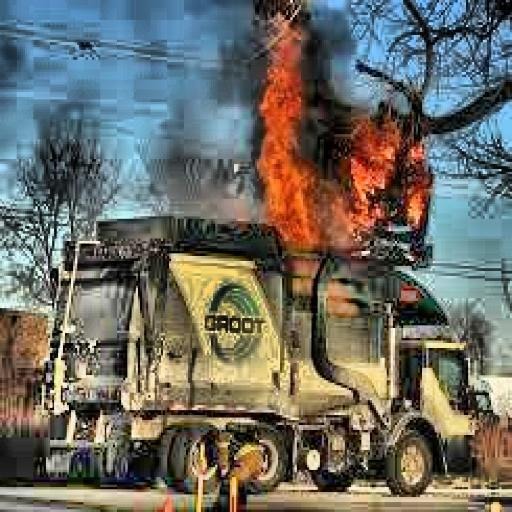fire: (253, 52, 447, 264)
